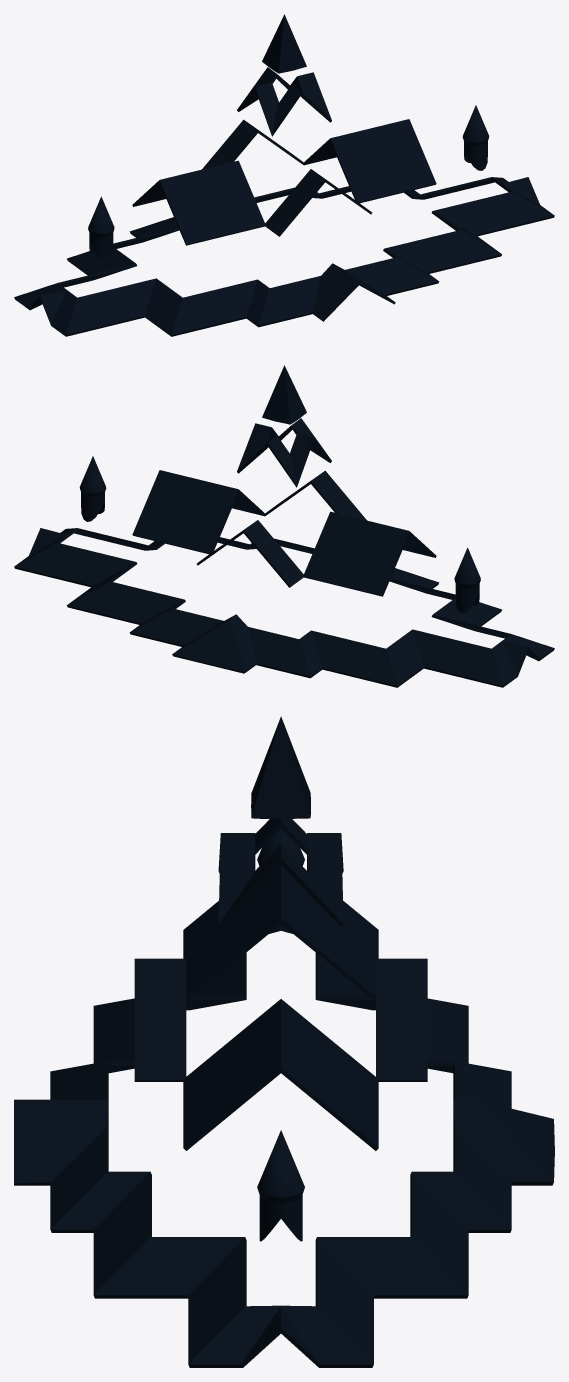
File: Roof Placeholder.fbx
3 views of the same model, one above another, from view 1: azimuth 30°, elevation 25°; view 2: azimuth 150°, elevation 25°; view 3: azimuth 270°, elevation 25° (orthographic). The views are drawn at different scales.
Parts seen in each view (by area): view 1: RoofLevel1, RoofLevel3, RoofLevel4, MiniTowers, RoofLevel5; view 2: RoofLevel1, RoofLevel3, RoofLevel4, MiniTowers, RoofLevel5; view 3: RoofLevel1, RoofLevel3, RoofLevel4, MiniTowers, RoofLevel5.
Part boxes in pixels (box(x1,y1,x2,y2)): RoofLevel1: box(14, 177, 554, 336); RoofLevel3: box(132, 119, 436, 245); RoofLevel4: box(237, 67, 331, 136); MiniTowers: box(88, 105, 489, 262); RoofLevel5: box(262, 14, 306, 73); RoofLevel1: box(14, 528, 554, 687); RoofLevel3: box(132, 470, 436, 596); RoofLevel4: box(237, 418, 331, 487); MiniTowers: box(79, 456, 480, 613); RoofLevel5: box(262, 365, 306, 424); RoofLevel1: box(14, 924, 554, 1367); RoofLevel3: box(134, 865, 427, 1150); RoofLevel4: box(218, 819, 343, 926); MiniTowers: box(257, 828, 304, 1241); RoofLevel5: box(251, 716, 310, 819).
Bounding box in the file's own units: 58.77 × 28.07 × 31.39.
